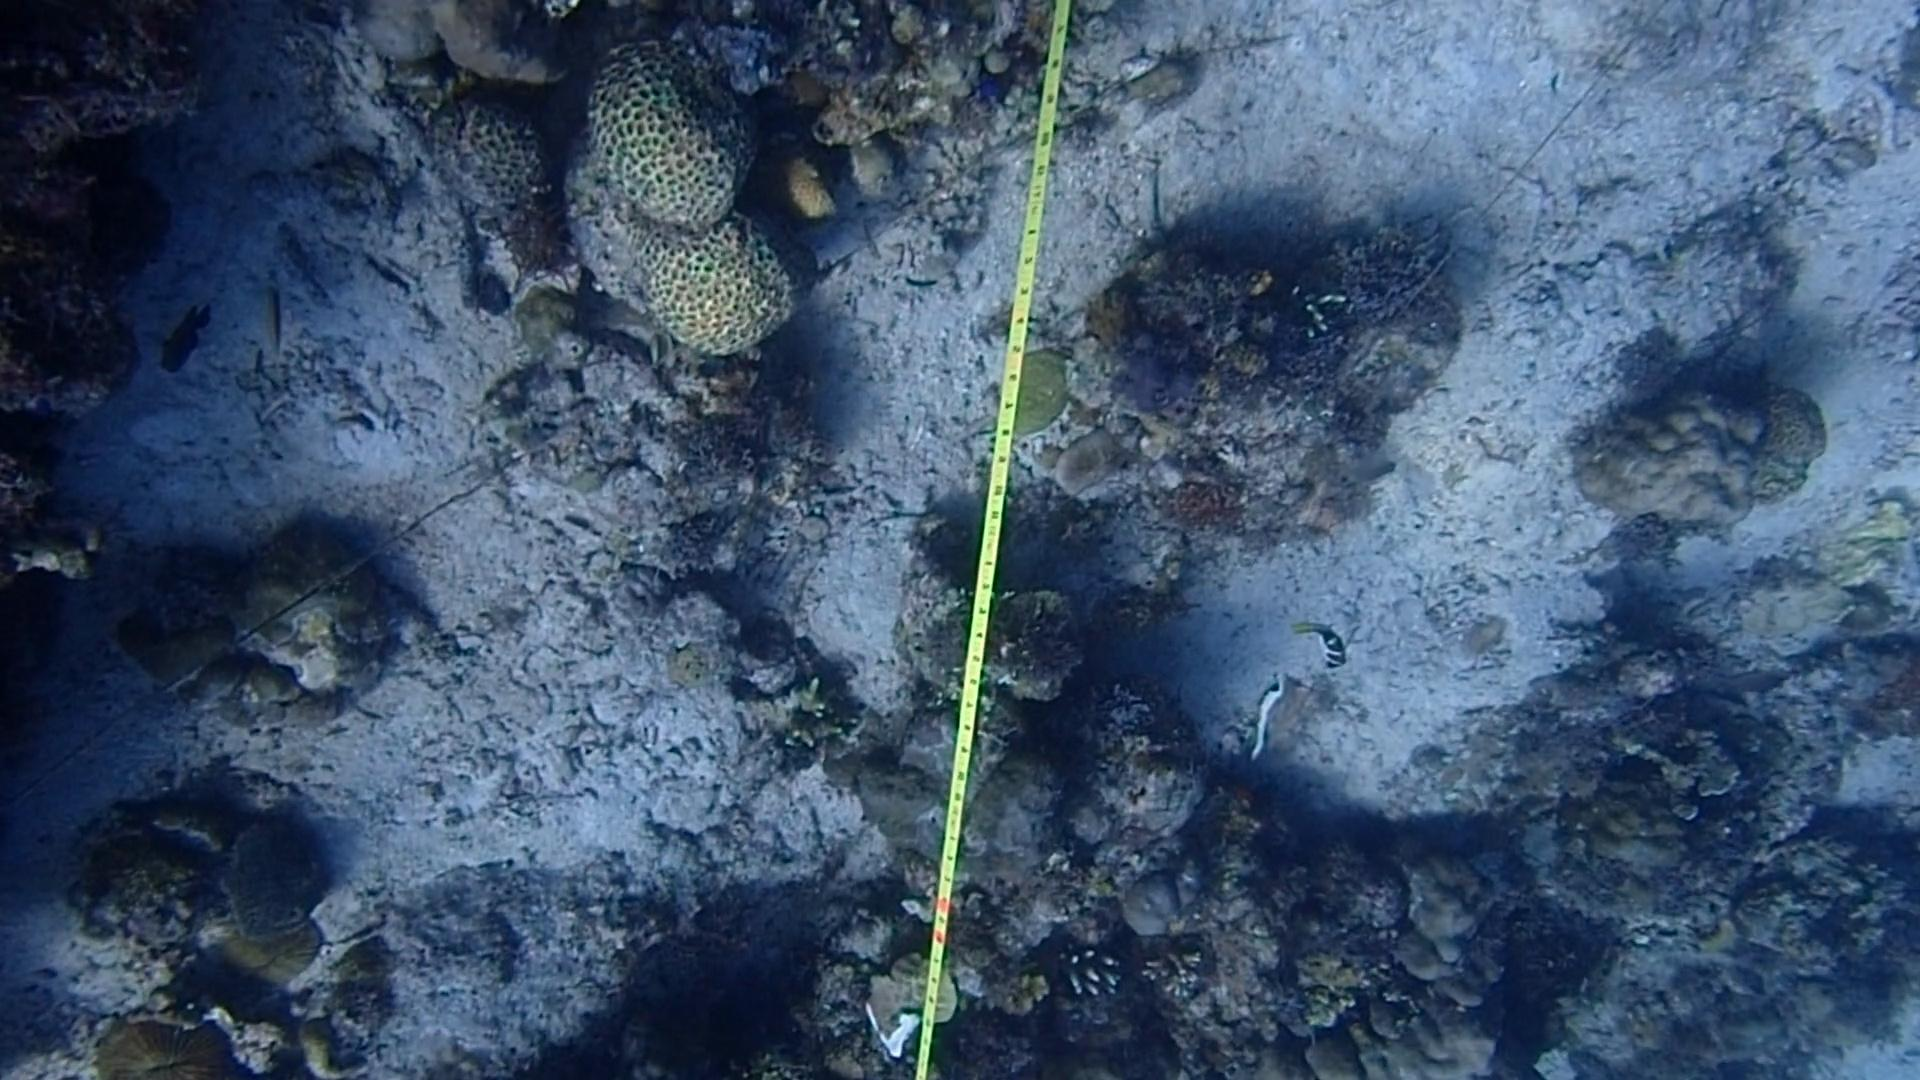Striped Fish: (1295, 600, 1354, 679)
